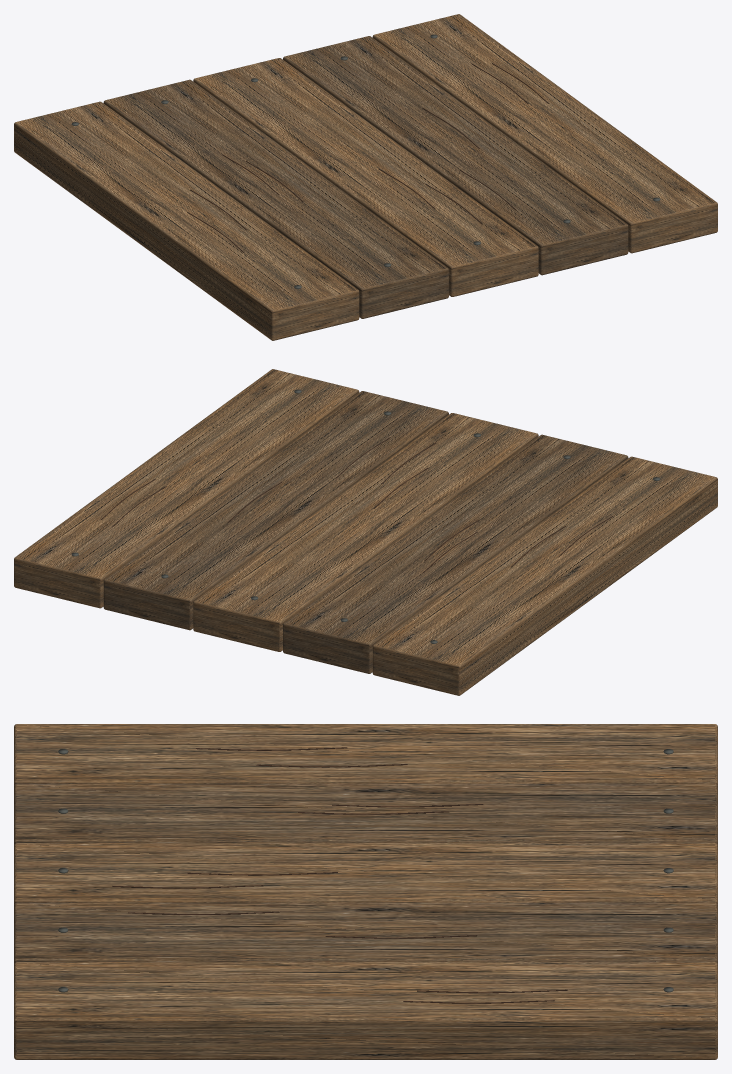
File: floor_module_2x2.glb
3 renders of one model, top to bottom at view 1: azimuth 30°, elevation 25°; view 2: azimuth 150°, elevation 25°; view 3: azimuth 270°, elevation 25°, orthographic. The views are drawn at different scales.
Parts seen in each view (by area): view 1: floor_module_2x2_mesh; view 2: floor_module_2x2_mesh; view 3: floor_module_2x2_mesh.
Boxes of the visible parts, x1,y1,x2,y2 form: floor_module_2x2_mesh: (14, 14, 717, 340); floor_module_2x2_mesh: (14, 369, 717, 695); floor_module_2x2_mesh: (14, 724, 717, 1059).
Bounding box in the file's own units: 1.99 × 0.134 × 2.
Materials: 4 (3 with a texture image).
